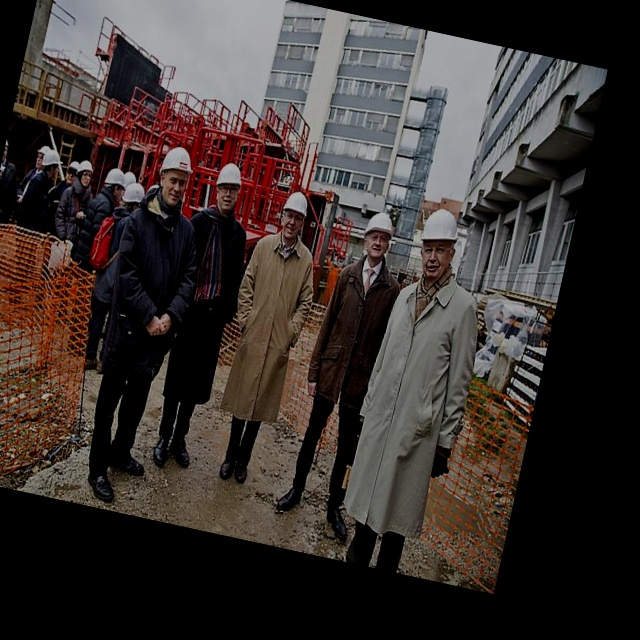Con_Casco: (360, 207, 399, 265), (211, 163, 246, 212)
Sin_Chaleco: (373, 273, 479, 425), (102, 203, 202, 349), (232, 233, 317, 351)
